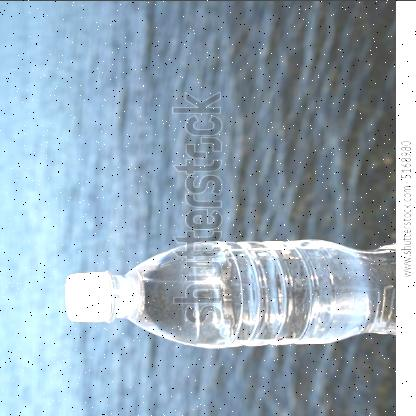Plastic Bottle: (66, 240, 370, 346)
